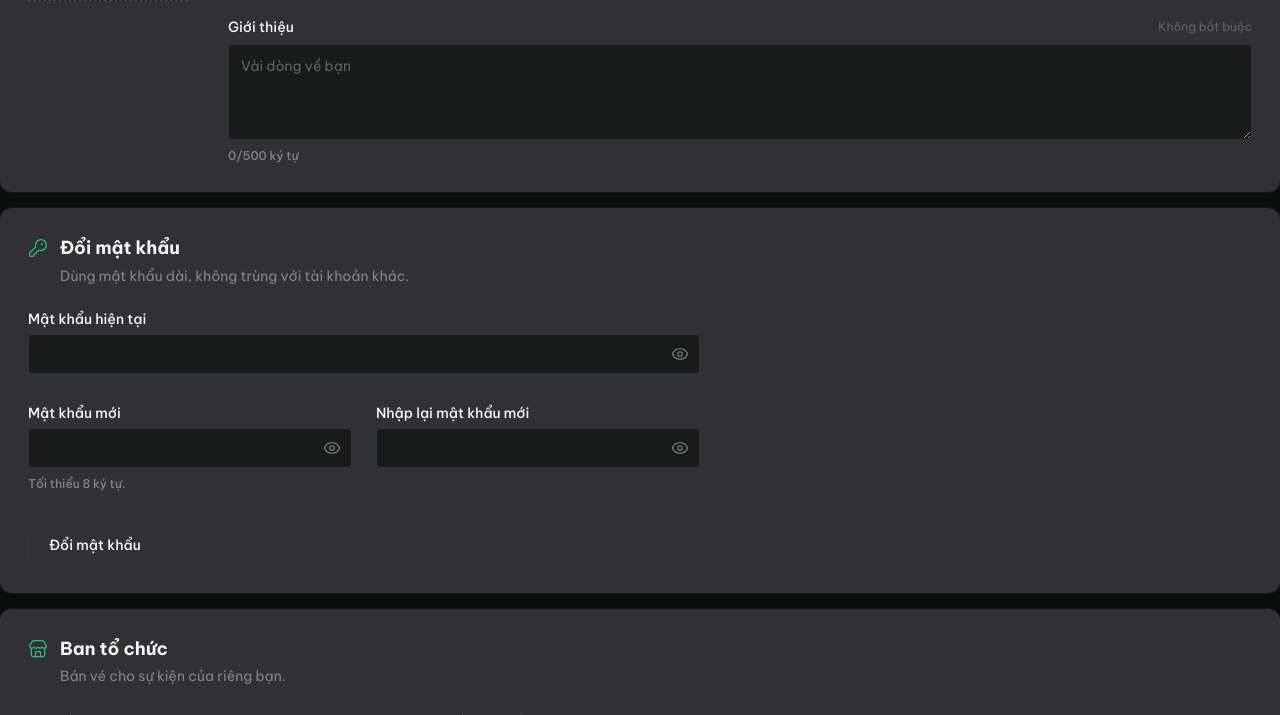
it: ProfilePage › WRONG_PASSWORD gắn vào ô mật khẩu hiện tại
(page scrolled)
Type "cu123456" into the password field labelled "Mật khẩu hiện tại" at (364, 354), box top-left (28, 334), bottom-right (700, 374)
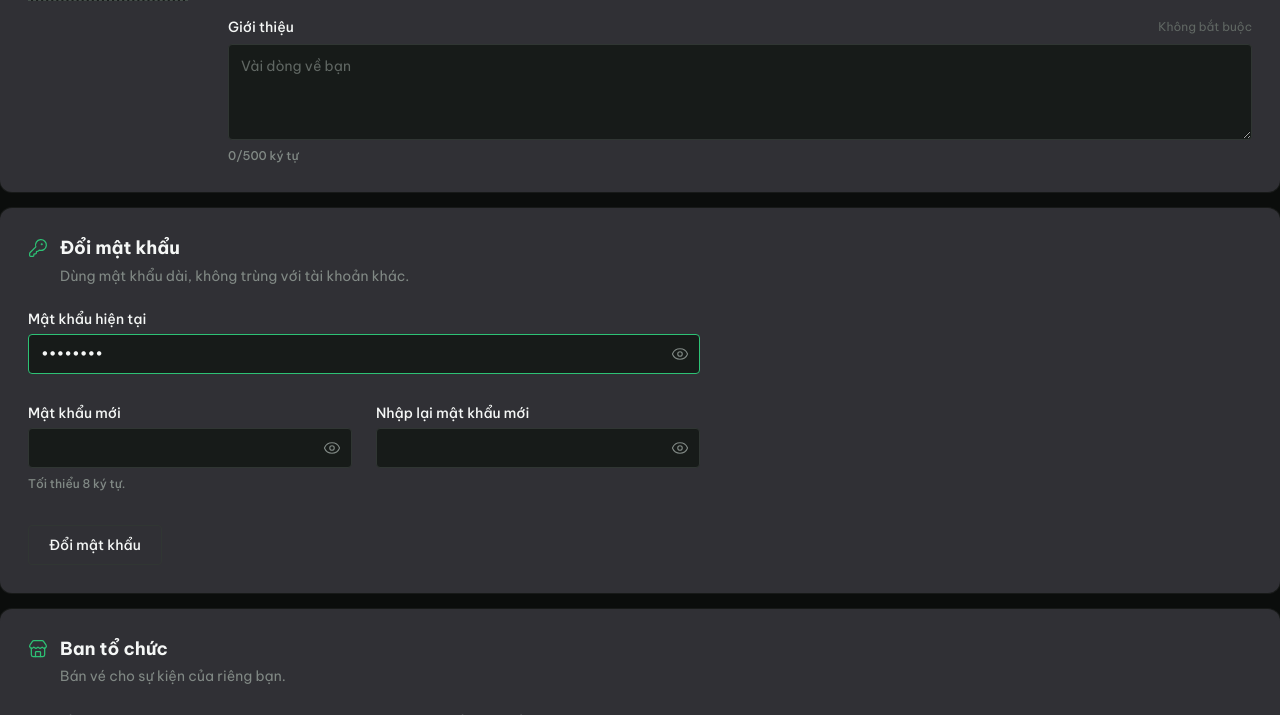
Type "moi123456" into the password field labelled "Mật khẩu mới" at (190, 448), box top-left (28, 428), bottom-right (352, 468)
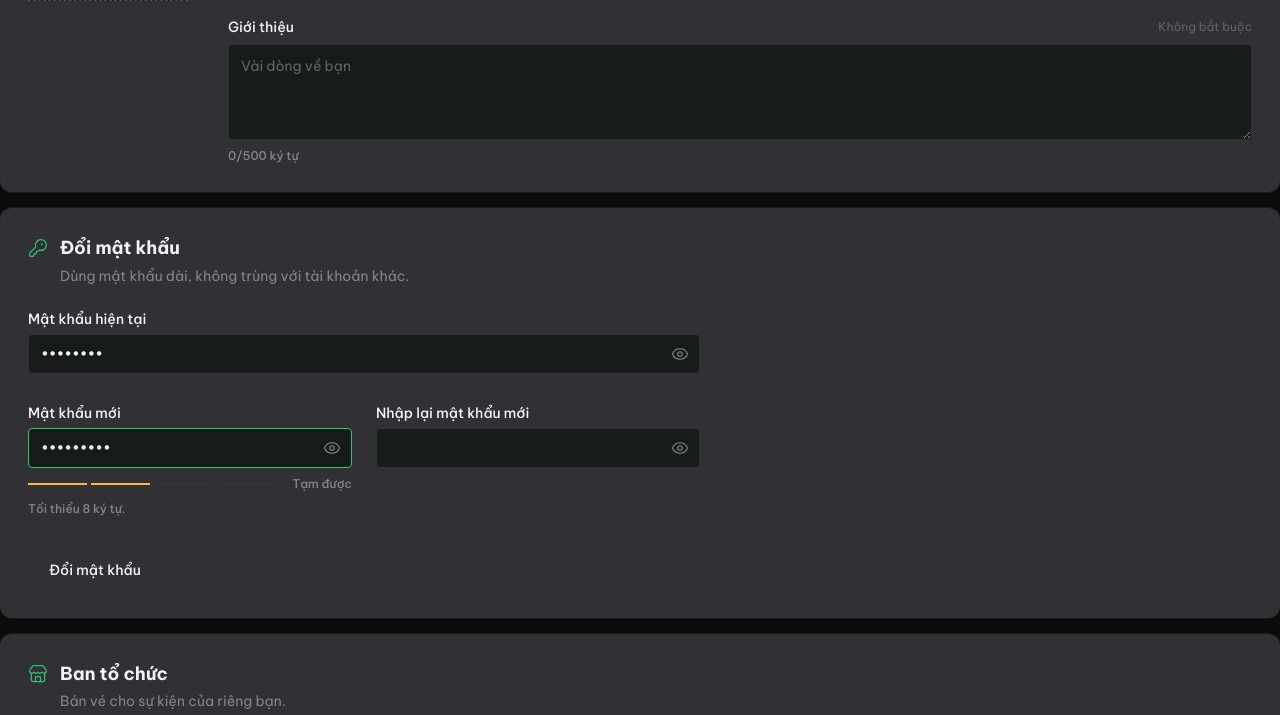
Type "moi123456" into the password field labelled "Nhập lại mật khẩu mới" at (538, 448), box top-left (376, 428), bottom-right (700, 468)
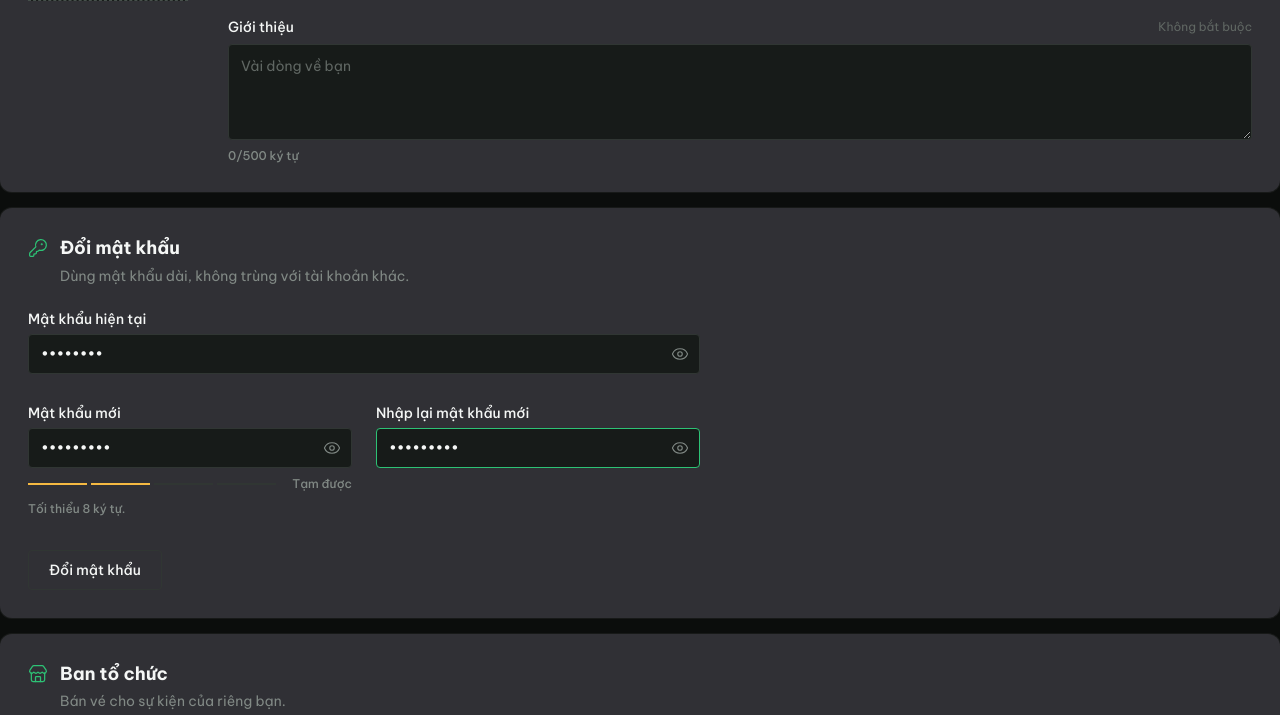
Click the button "Đổi mật khẩu" at (95, 570), box top-left (28, 550), bottom-right (162, 590)
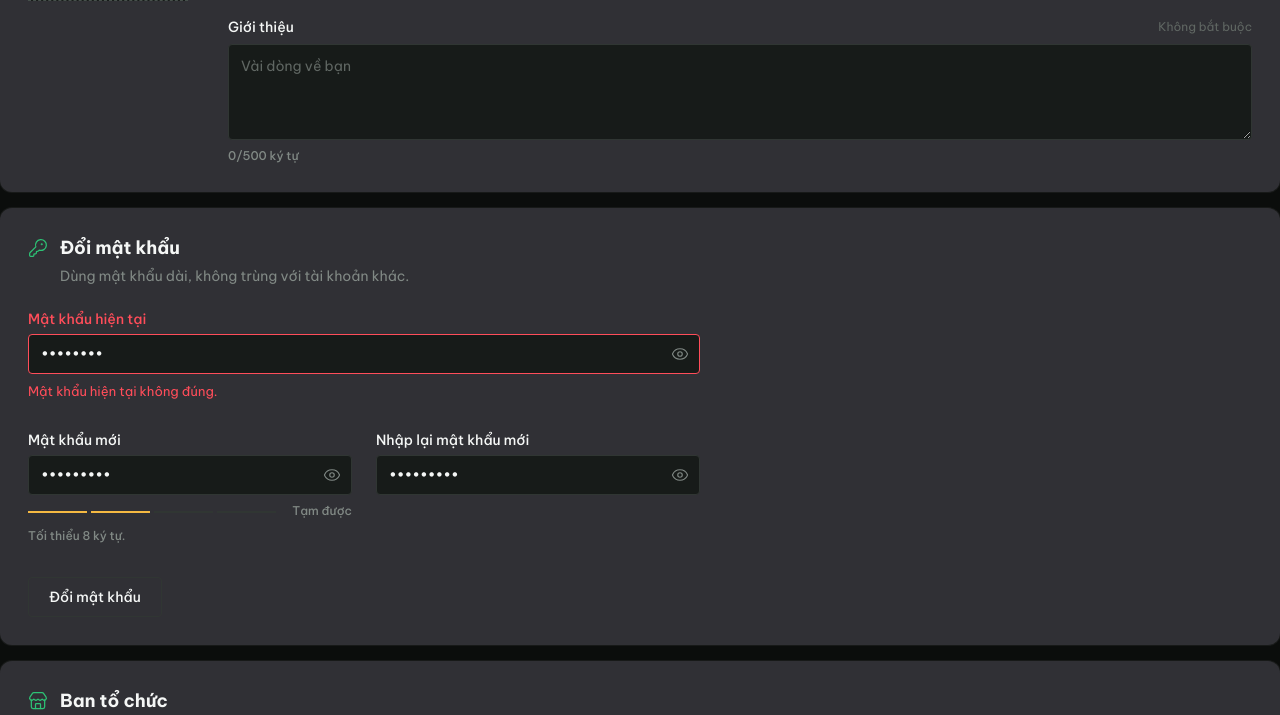
expect the text "Mật khẩu hiện tại không đúng." is shown: met, box top-left (28, 383), bottom-right (218, 399)
